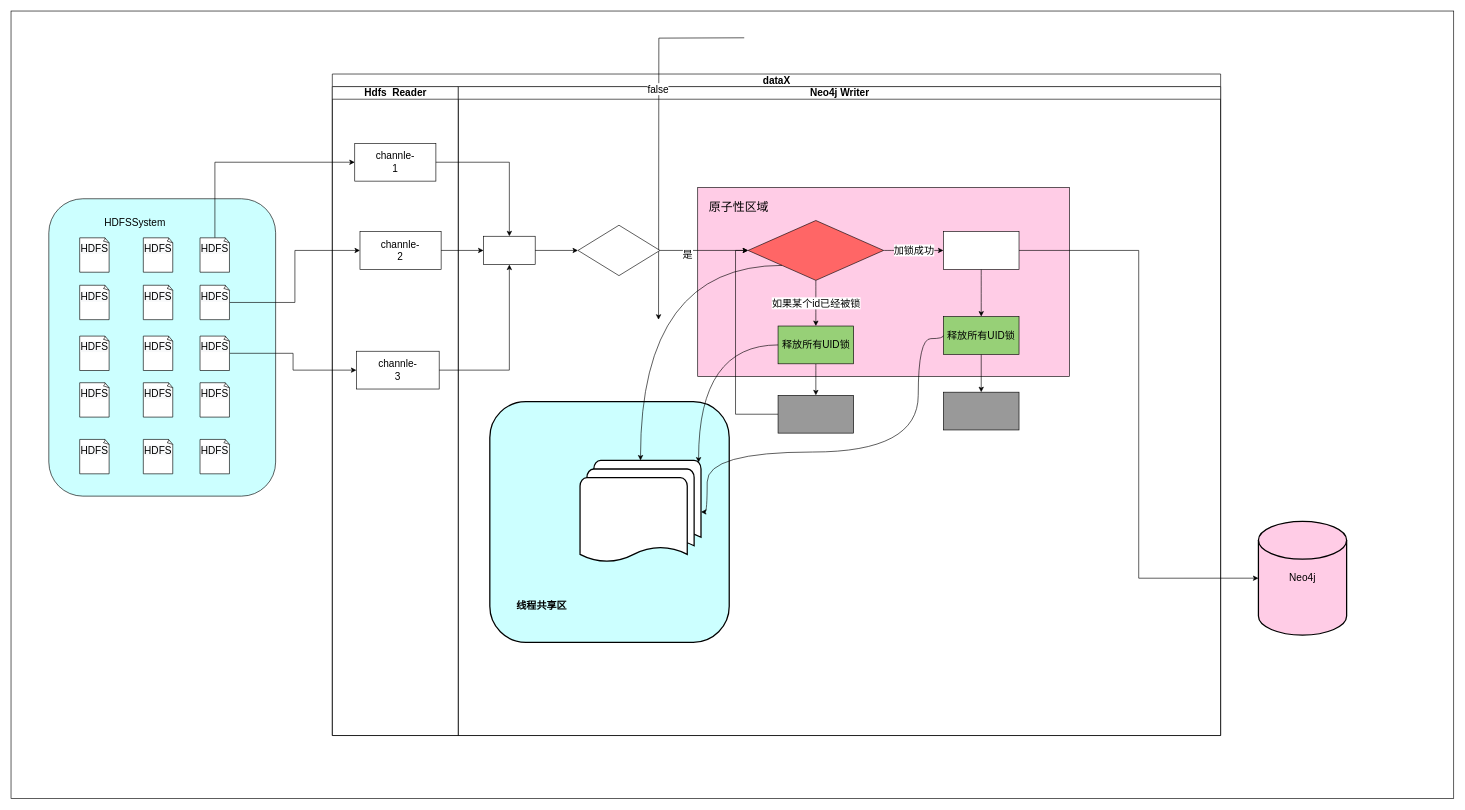
This 1465x810 diagram has some shape labels left out. The centre of each missing label's shape, as x and y in pixels:
"uid lock pool" belongs at point (640, 512).
"唤醒休眠线程" belongs at point (981, 411).
"对所有的开始节点和结束节点的UID加锁" belongs at point (815, 250).
"执行写入" belongs at point (981, 250).
"线程休眠" belongs at point (815, 414).
"读取数量是否大于batchSize" belongs at point (618, 250).
"逐行读取record" belongs at point (509, 250).
